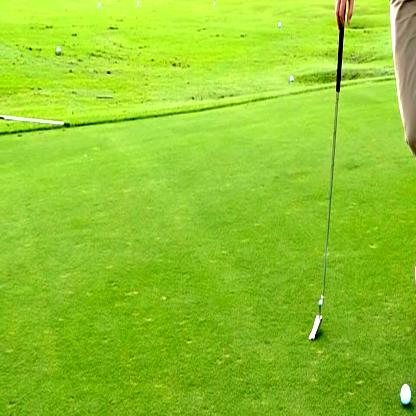ClubHead: (400, 383, 412, 406)
GolfBall: (307, 297, 323, 342)
